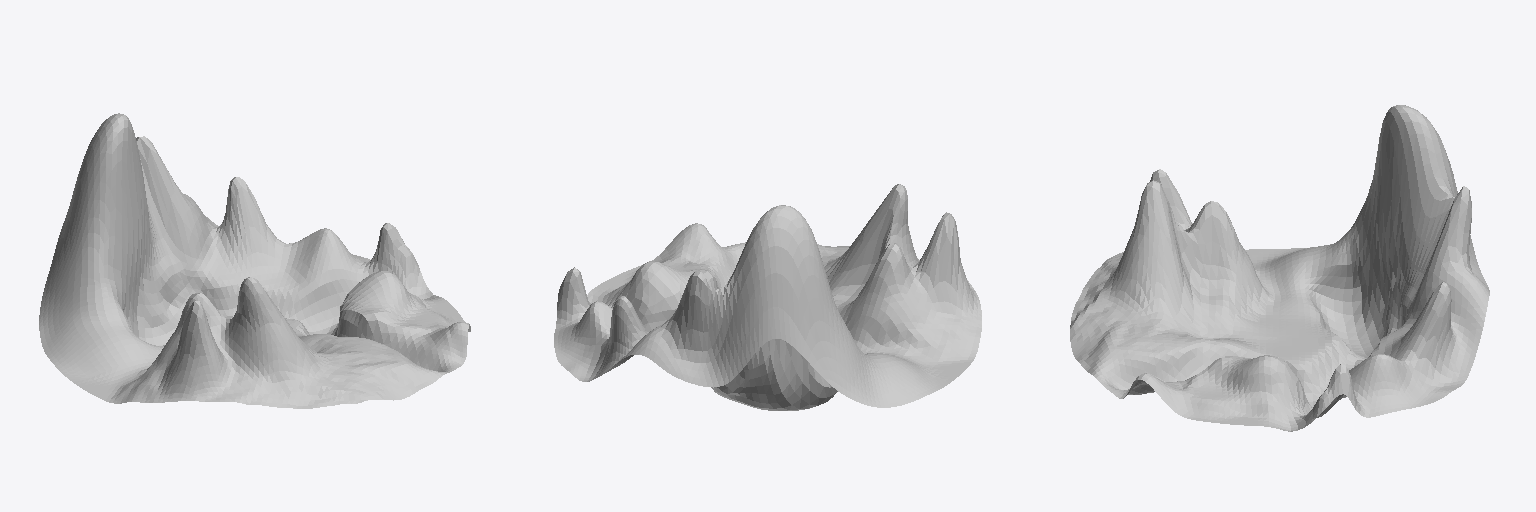
Rendered from detailed_surface.obj.
3 views of the same model, side by side, from view 1: azimuth 30°, elevation 25°; view 2: azimuth 150°, elevation 25°; view 3: azimuth 270°, elevation 25° (orthographic).
Parts seen in each view (by area): view 1: Plane; view 2: Plane; view 3: Plane.
Part boxes in pixels (left/top/right/bottom): Plane: left=39, top=113, right=470, bottom=408; Plane: left=554, top=184, right=981, bottom=410; Plane: left=1070, top=105, right=1489, bottom=431.
Bounding box in the file's own units: 97.43 × 57.63 × 96.98.